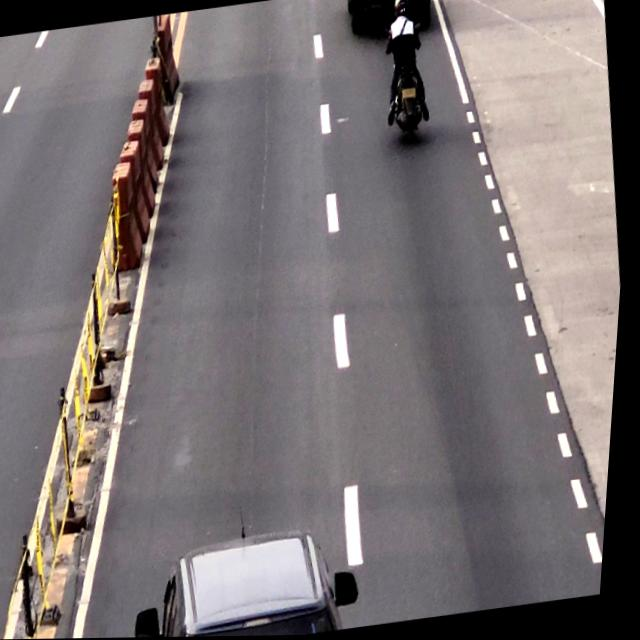Motorcycle: (377, 0, 440, 140)
